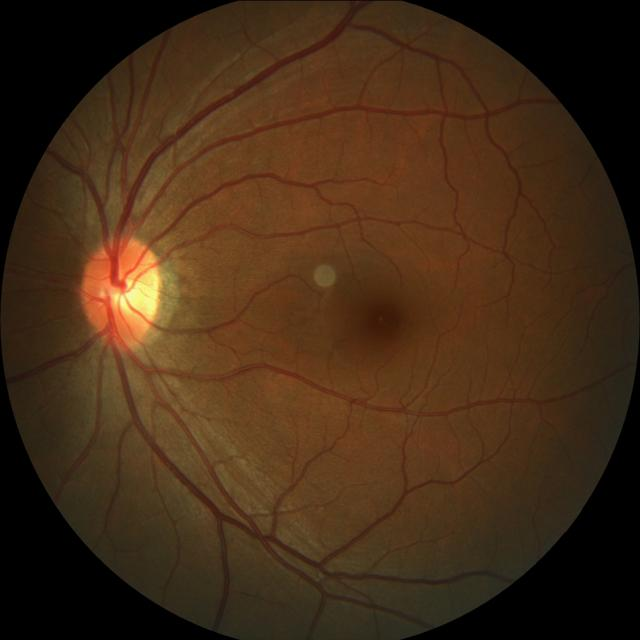OC: (100, 267, 148, 314)
OD: (79, 234, 162, 349)
